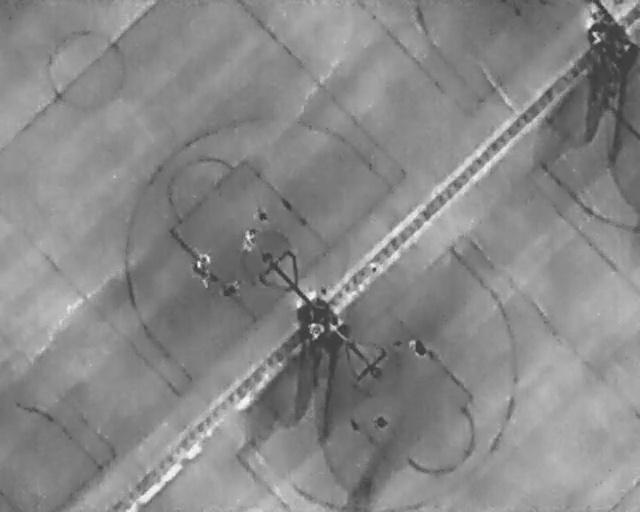Person: (407, 333, 432, 360), (217, 277, 245, 301), (240, 227, 257, 255), (253, 204, 271, 226), (196, 251, 215, 267), (372, 413, 389, 430), (308, 322, 323, 340), (192, 259, 205, 276), (201, 272, 210, 290)
